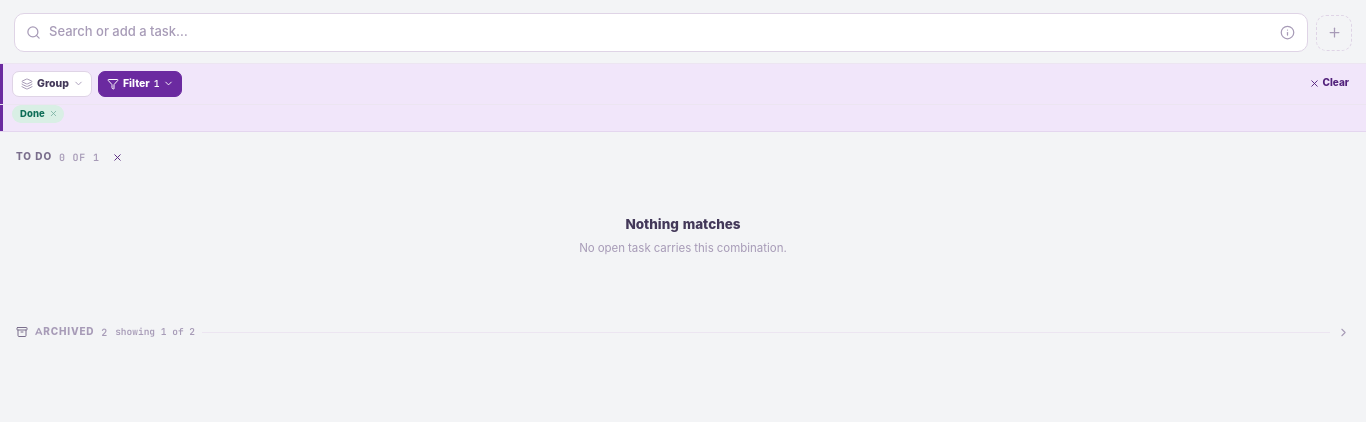
Test: the ticket axis › the drawer honours the filter and says how many of its rows are showing
Check: the text with class "todo-arch-c" reads "2", box top-left (101, 326), bottom-right (108, 339)
Check: the text with class "todo-arch-sub" reads "showing 1 of 2", box top-left (115, 325), bottom-right (195, 339)
Click the button "Archived 2 showing 1 of 2".
click(65, 332)  # box top-left (12, 321), bottom-right (1354, 344)
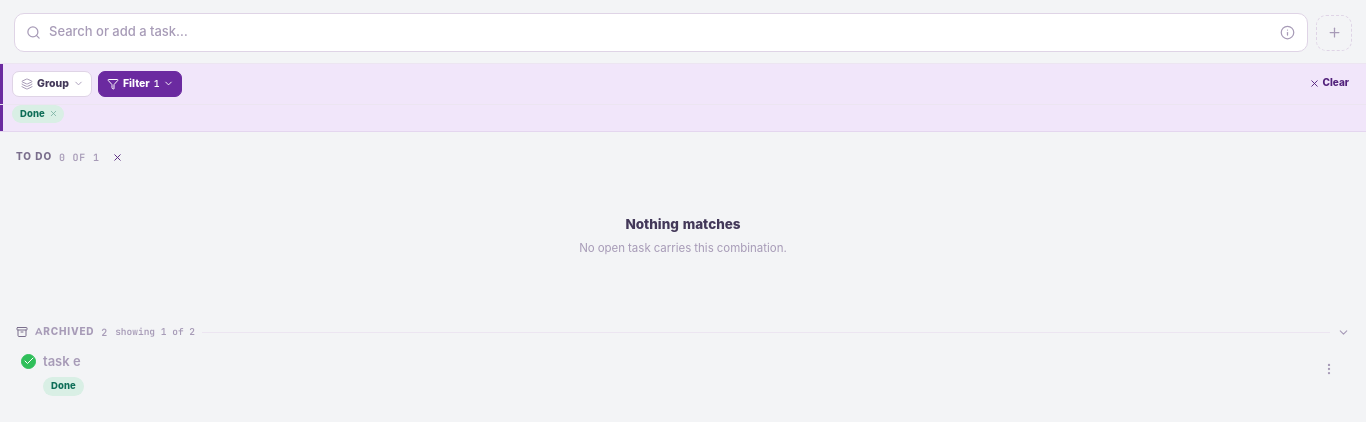
Check: the number of elements with class "archived" is 1, box top-left (12, 344), bottom-right (1354, 406)
